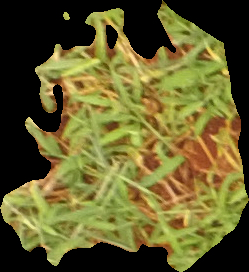grass: (1, 1, 247, 271)
